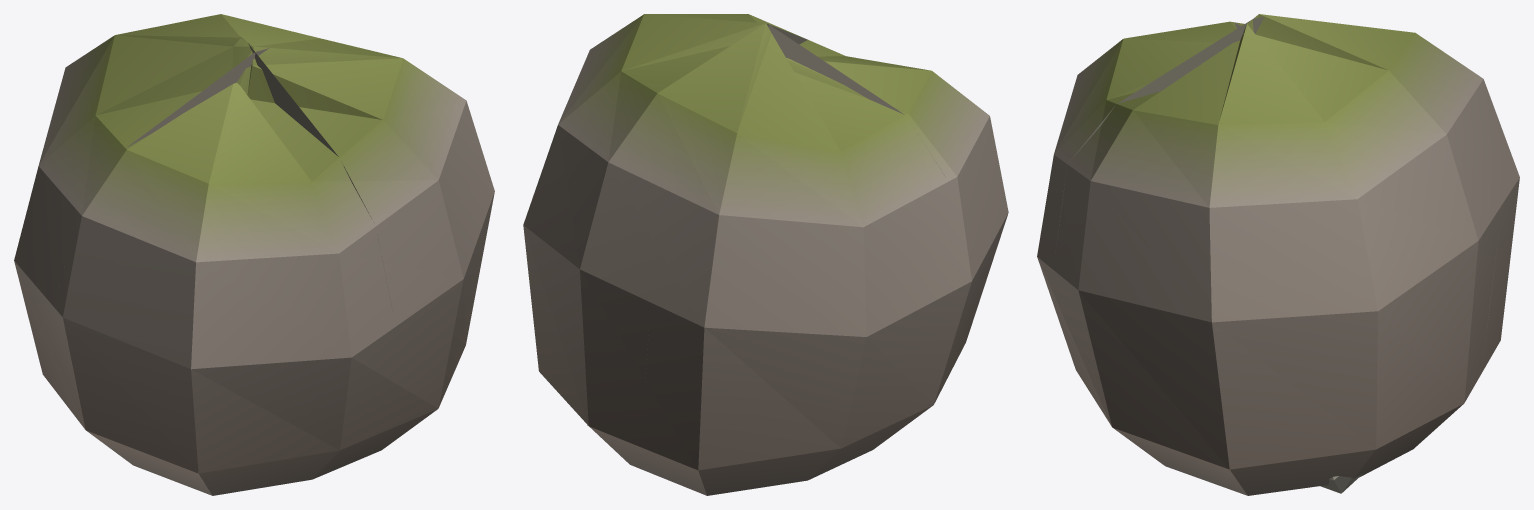
The model's file is Cobble.glb.
3 renders of one model, left to right at view 1: azimuth 30°, elevation 25°; view 2: azimuth 150°, elevation 25°; view 3: azimuth 270°, elevation 25°, orthographic.
Parts seen in each view (by area): view 1: Whole, Shard4, Shard3, Shard1, Shard2; view 2: Whole, Shard1, Shard2, Shard3, Shard4; view 3: Whole, Shard2, Shard3, Shard4, Shard1.
Part boxes in pixels (x1,y1,x2,y2): Whole: (27,14,494,494); Shard4: (54,52,395,495); Shard3: (255,48,464,461); Shard1: (14,37,255,367); Shard2: (248,33,327,55); Whole: (523,14,1008,494); Shard1: (640,23,952,495); Shard2: (544,22,763,464); Shard3: (573,14,807,88); Shard4: (771,25,971,464); Whole: (1044,14,1519,495); Shard2: (1242,17,1482,424); Shard3: (1053,26,1338,494); Shard4: (1037,22,1242,395); Shard1: (1235,14,1519,372).
Bounding box in the file's own units: 0.9282 × 0.8612 × 0.9087.
